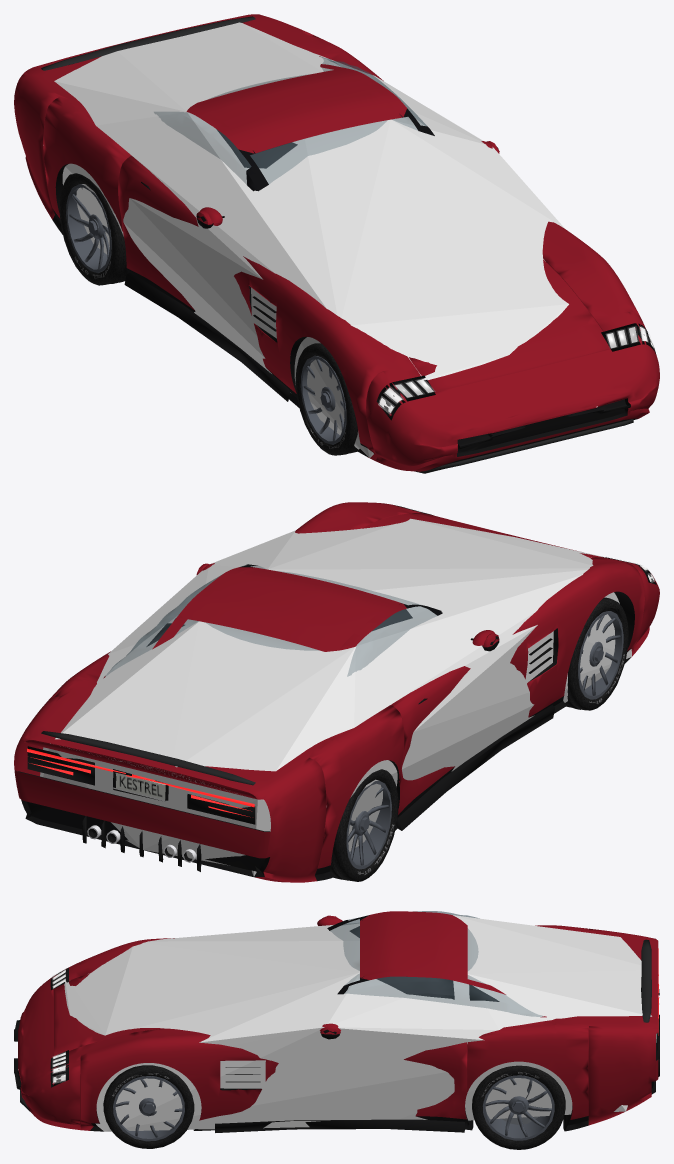
The model's file is kestrel_gtr_lod1.glb.
3 views of the same model, one above another, from view 1: azimuth 30°, elevation 25°; view 2: azimuth 150°, elevation 25°; view 3: azimuth 270°, elevation 25° (orthographic). The views are drawn at different scales.
Visible parts, largest first — view 1: col_body, body, trim, glass, wheel_RR, wheel_FR, lights_front, underbody, interior; view 2: col_body, body, trim, wheel_RR, glass, wheel_FR, lights_rear, plate_rear, underbody; view 3: col_body, body, wheel_RL, glass, wheel_FL, trim, interior, lights_front.
Boxes of the visible parts, <box> form: col_body: <box>43,18,597,457</box>; body: <box>14,14,659,471</box>; trim: <box>41,16,633,473</box>; glass: <box>154,57,426,184</box>; wheel_RR: <box>59,173,127,285</box>; wheel_FR: <box>295,343,358,455</box>; lights_front: <box>376,323,656,420</box>; underbody: <box>55,164,637,469</box>; interior: <box>216,129,297,168</box>; col_body: <box>40,518,631,876</box>; body: <box>14,502,659,882</box>; trim: <box>41,563,554,871</box>; wheel_RR: <box>330,769,398,881</box>; glass: <box>105,565,436,676</box>; wheel_FR: <box>565,597,628,710</box>; lights_rear: <box>27,746,255,824</box>; plate_rear: <box>113,769,168,800</box>; underbody: <box>37,591,634,876</box>; col_body: <box>18,915,657,1131</box>; body: <box>14,911,658,1131</box>; wheel_RL: <box>472,1065,565,1149</box>; glass: <box>330,911,543,1016</box>; wheel_FL: <box>103,1065,194,1148</box>; trim: <box>20,915,659,1132</box>; interior: <box>350,926,499,1001</box>; lights_front: <box>50,968,68,1087</box>.
Bounding box in the file's own units: 2.01 × 1.28 × 4.8.
15 materials, 3 textured.
